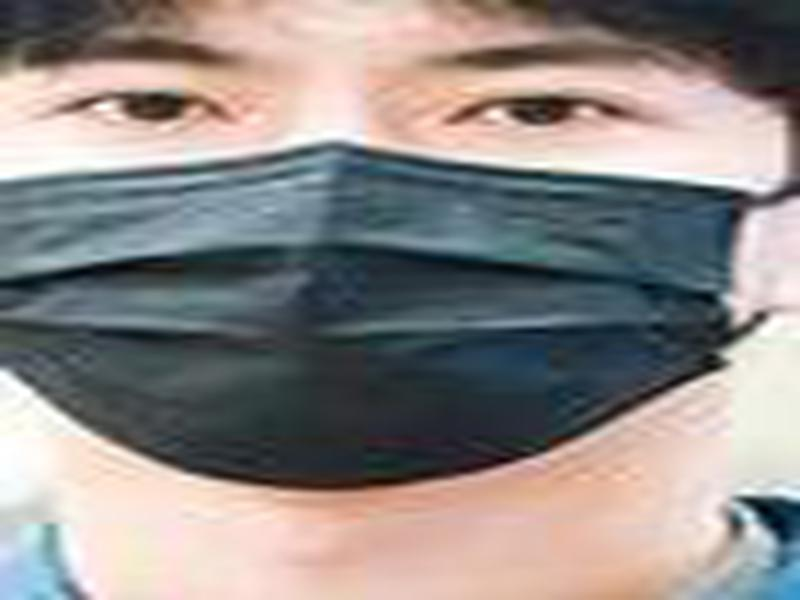with_mask: (2, 1, 800, 509)
